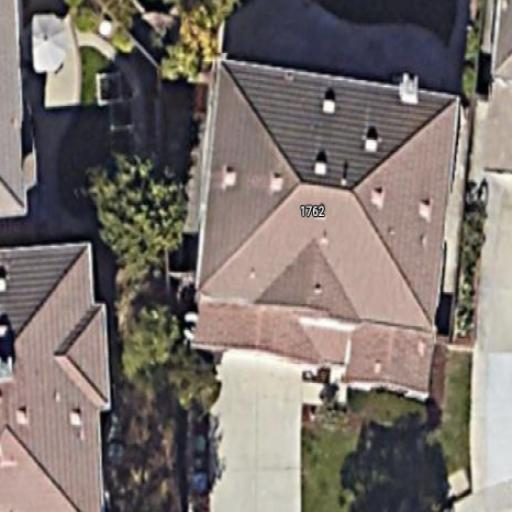Slope-Roof: (195, 57, 461, 337)
